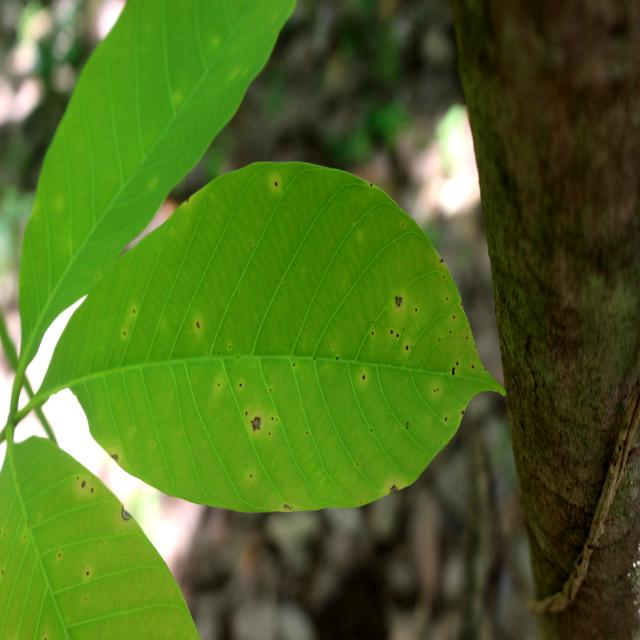Colletotrichum: (396, 334, 399, 337), (406, 346, 408, 350), (390, 330, 392, 334)
